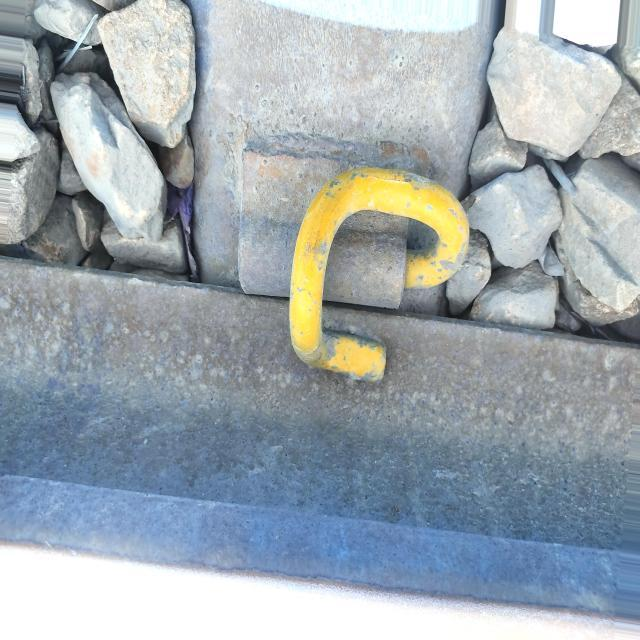Good Fasteners: (226, 118, 482, 409)
